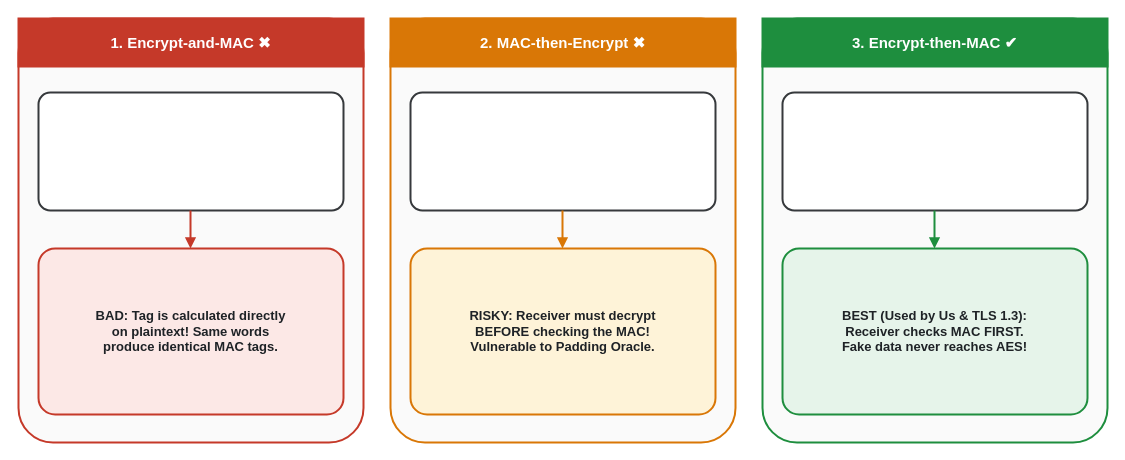
Image size: 1125x460. Some labels were removed from this diagram. The centre of each missing label's shape, as x and y in pixels:
Plaintext ➔ Encrypt ➔ Ciphertext (Header+IV+Cipher) ➔ MAC ➔ Tag: pixel 934 151
Plaintext ➔ Encrypt ➔ Ciphertext Plaintext ➔ MAC ➔ Tag: pixel 190 151
Plaintext ➔ MAC ➔ Tag (Plaintext + Tag) ➔ Encrypt: pixel 562 151
